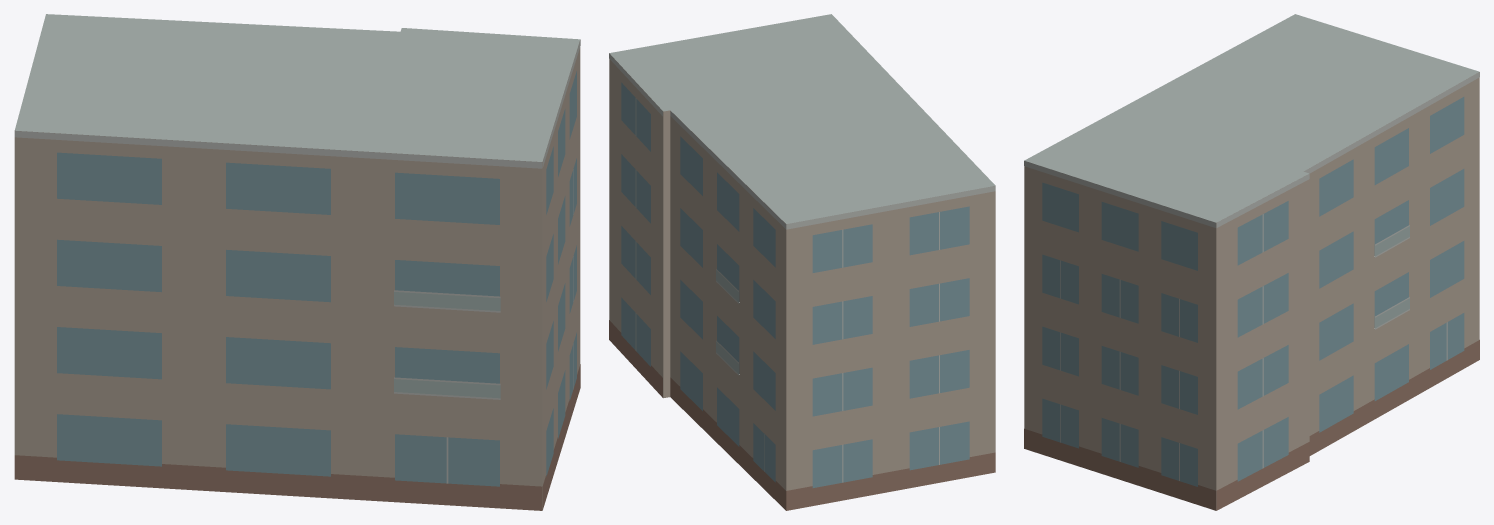
File: survey-upis-32628380.glb
3 views of the same model, side by side, from view 1: azimuth 30°, elevation 25°; view 2: azimuth 150°, elevation 25°; view 3: azimuth 270°, elevation 25° (orthographic). The views are drawn at different scales.
Parts seen in each view (by area): view 1: survey-upis-32628380.tmp; view 2: survey-upis-32628380.tmp; view 3: survey-upis-32628380.tmp.
Boxes of the visible parts, box(x1,y1,x2,y2) form: survey-upis-32628380.tmp: box(14, 14, 580, 510); survey-upis-32628380.tmp: box(609, 14, 995, 510); survey-upis-32628380.tmp: box(1024, 14, 1479, 510).
Bounding box in the file's own units: 19.9 × 12.8 × 18.36.
